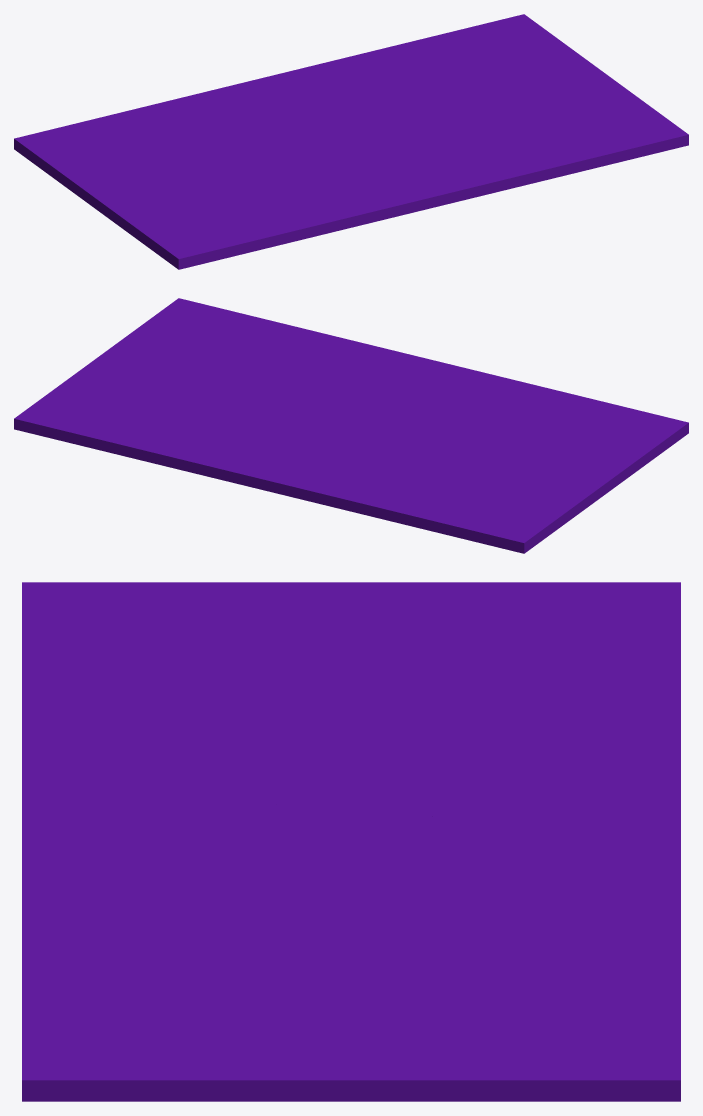
File: Exhibition_19_chunks.fbx
3 renders of one model, top to bottom at view 1: azimuth 30°, elevation 25°; view 2: azimuth 150°, elevation 25°; view 3: azimuth 270°, elevation 25°, orthographic. The views are drawn at different scales.
Parts seen in each view (by area): view 1: Exhibition_19_0, Exhibition_19_2, Exhibition_19_3, Exhibition_19_1; view 2: Exhibition_19_0, Exhibition_19_2, Exhibition_19_3, Exhibition_19_1; view 3: Exhibition_19_0, Exhibition_19_2, Exhibition_19_3, Exhibition_19_1.
Part boxes in pixels (left/top/right/bottom): Exhibition_19_0: left=14, top=93, right=352, bottom=269; Exhibition_19_2: left=350, top=53, right=688, bottom=193; Exhibition_19_3: left=198, top=14, right=576, bottom=134; Exhibition_19_1: left=271, top=143, right=491, bottom=247; Exhibition_19_0: left=340, top=396, right=688, bottom=553; Exhibition_19_2: left=67, top=298, right=394, bottom=422; Exhibition_19_3: left=14, top=380, right=347, bottom=510; Exhibition_19_1: left=364, top=351, right=580, bottom=416; Exhibition_19_0: left=22, top=582, right=680, bottom=831; Exhibition_19_2: left=22, top=825, right=468, bottom=1101; Exhibition_19_3: left=361, top=762, right=680, bottom=1101; Exhibition_19_1: left=22, top=688, right=321, bottom=869.
Size of the model in its own units: 642 by 12.85 by 359.
